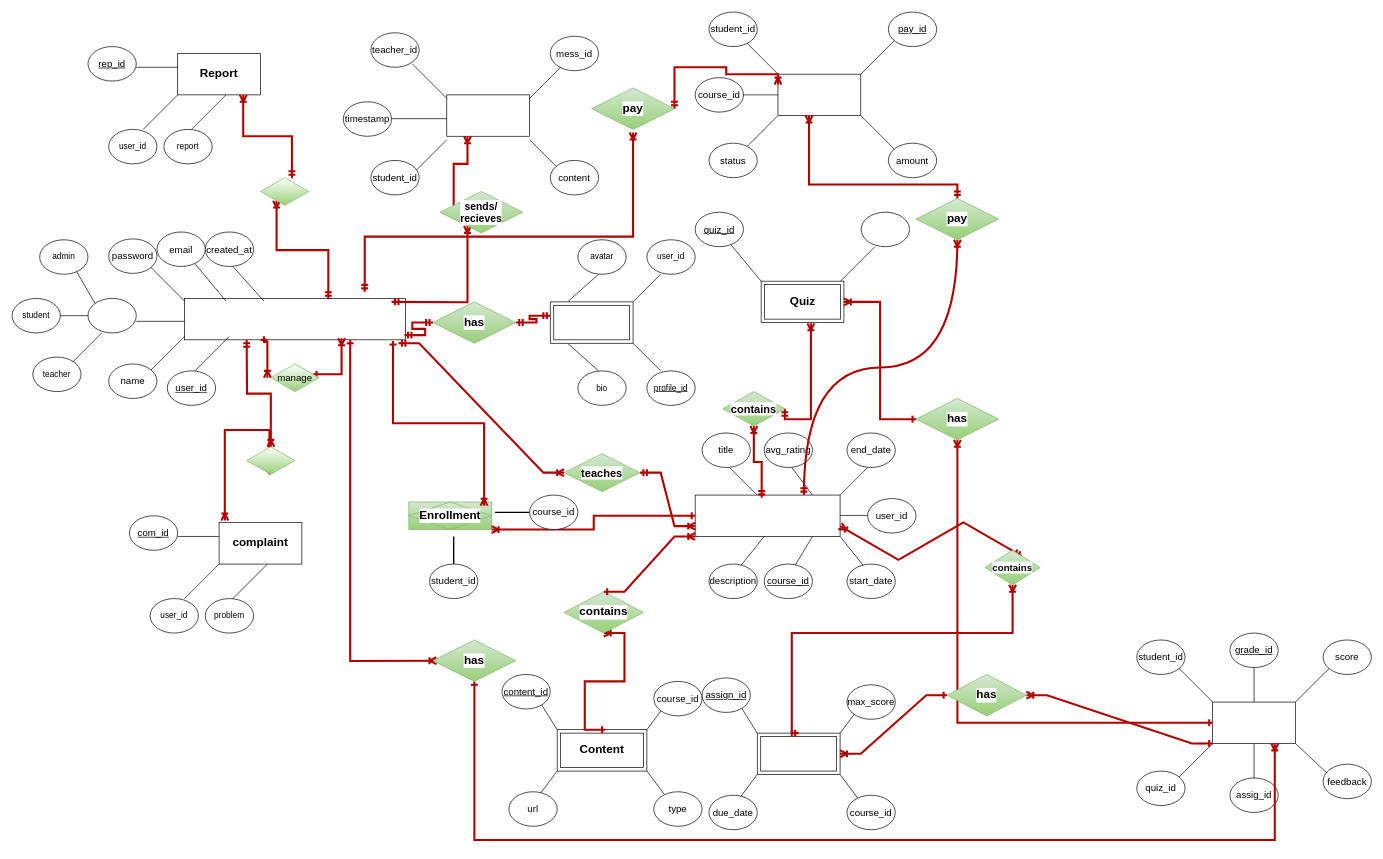
The diagram is 1383 pixels wide and 859 high, and some of its shapes have lost their labels. Here are the shapes that lost their labels. From the top down, the box of each, then its label:
(777, 73, 861, 116): Payment
(446, 94, 530, 136): Message
(260, 177, 309, 205): make
(860, 211, 909, 247): time_limit
(87, 298, 136, 333): role
(184, 298, 405, 340): User
(550, 301, 633, 343): Profile
(246, 446, 295, 474): treat
(694, 494, 840, 536): Course
(1212, 701, 1295, 743): Grade
(757, 732, 840, 775): Assignment
